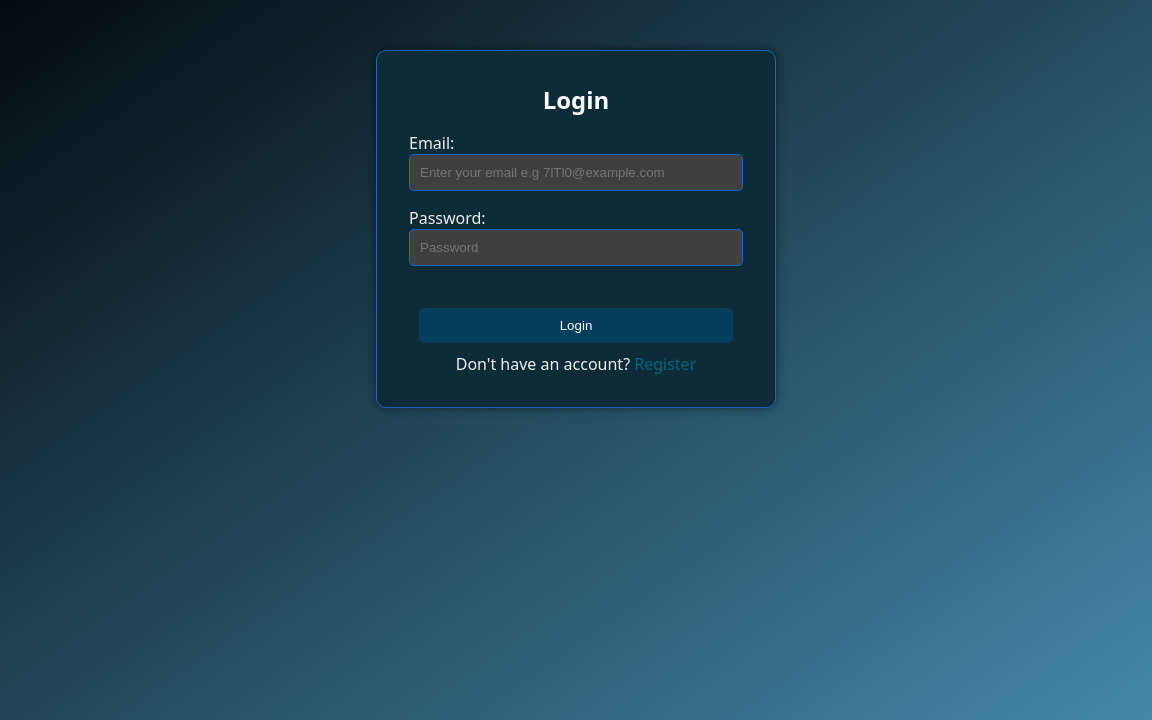
Scenario: Login Page Validation › shows error on login failure
Type "wrong@example.com" into the field with placeholder "Enter your email e.g 7lTl0@example.com". click: {"x": 576, "y": 172}
box: [409, 154, 743, 191]
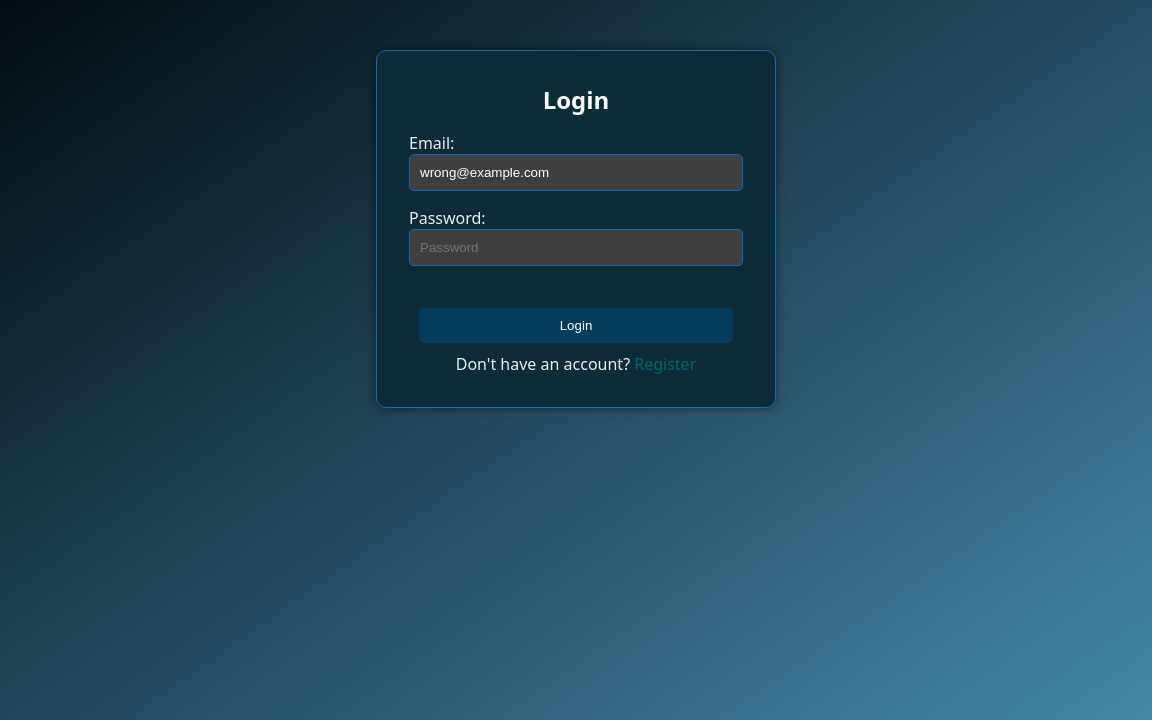
Type "wrongpass" into the password field with placeholder "Password". click: {"x": 576, "y": 248}
box: [409, 229, 743, 266]
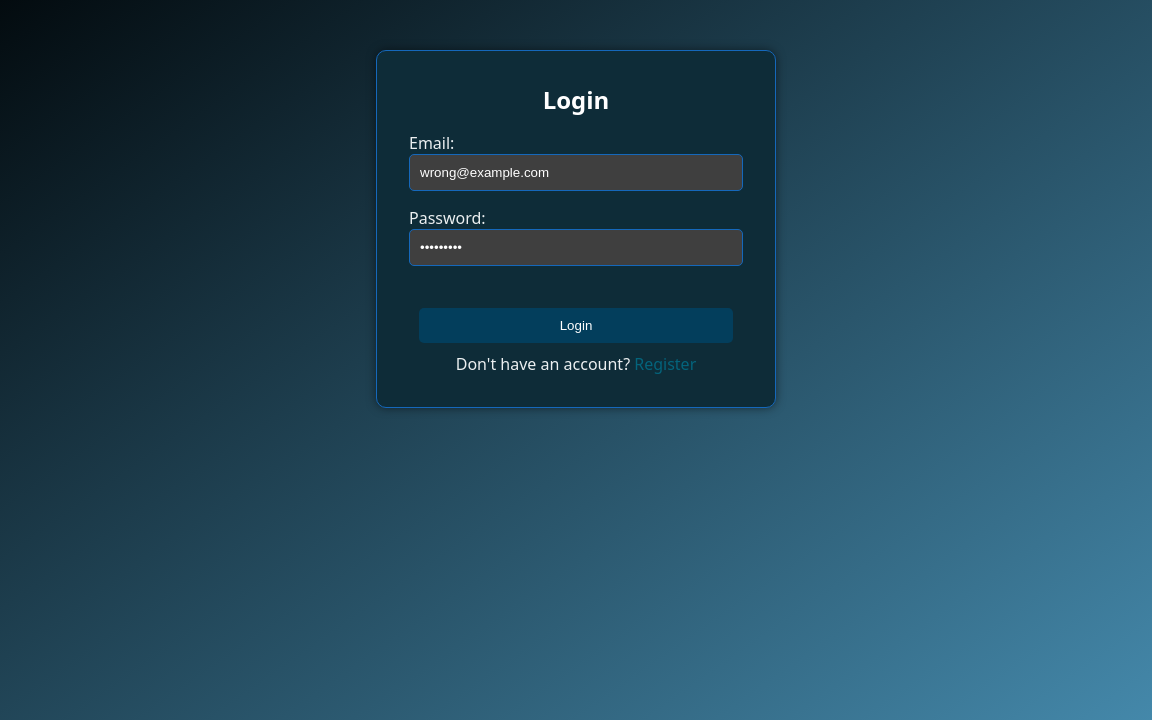
Click the button "Login". click: {"x": 576, "y": 326}
box: [419, 308, 733, 343]
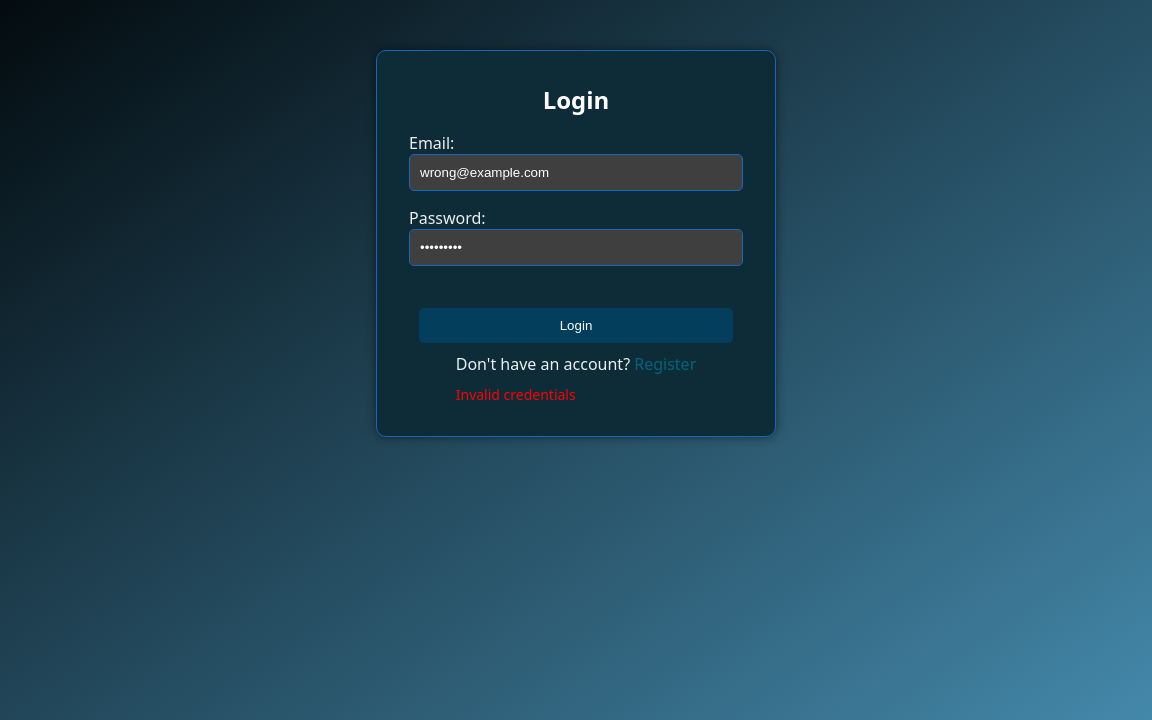
Expected: the text "Invalid credentials" is shown, [456, 385, 576, 404]
